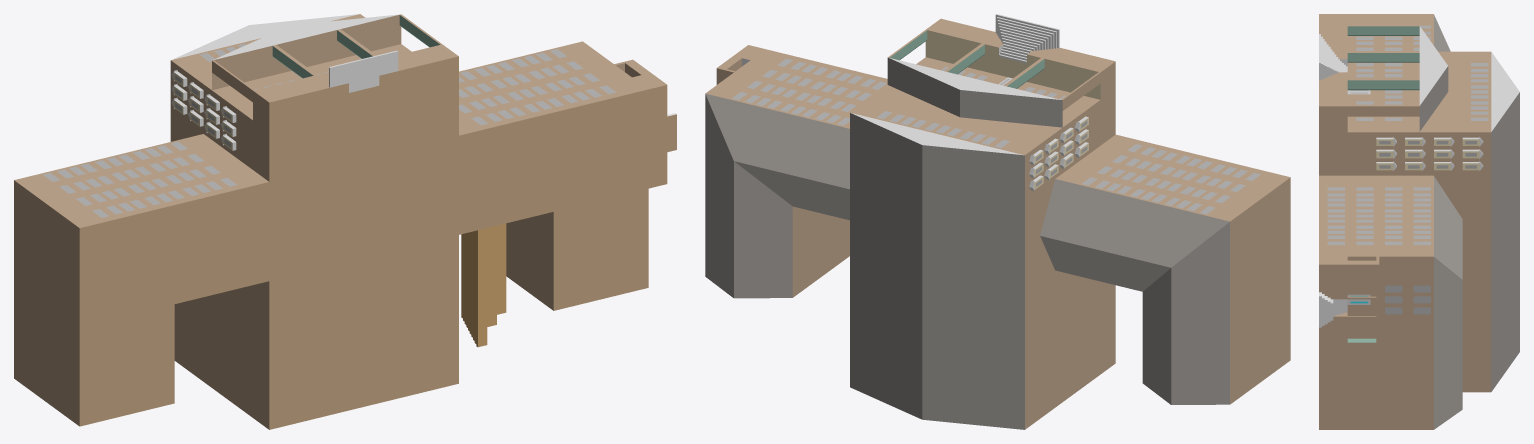
The model's file is Bad_Main_Recreation_Inverted.fbx.
The picture shows the model from 3 angles, left to right: view 1: azimuth 30°, elevation 25°; view 2: azimuth 150°, elevation 25°; view 3: azimuth 270°, elevation 25°; orthographic projection. The views are drawn at different scales.
Visible parts, largest first — view 1: imagetostl_mesh97, imagetostl_mesh318, imagetostl_mesh611, imagetostl_mesh376, imagetostl_mesh672, imagetostl_mesh359, imagetostl_mesh263, imagetostl_mesh845, imagetostl_mesh722, imagetostl_mesh375, imagetostl_mesh358, imagetostl_mesh671 (+22 smaller); view 2: imagetostl_mesh389, imagetostl_mesh390, imagetostl_mesh337, imagetostl_mesh333, imagetostl_mesh320, imagetostl_mesh326, imagetostl_mesh328, imagetostl_mesh104, imagetostl_mesh784, imagetostl_mesh332, imagetostl_mesh338, imagetostl_mesh672 (+32 smaller); view 3: imagetostl_mesh390, imagetostl_mesh179, imagetostl_mesh367, imagetostl_mesh386, imagetostl_mesh328, imagetostl_mesh267, imagetostl_mesh436, imagetostl_mesh263, imagetostl_mesh718, imagetostl_mesh320, imagetostl_mesh266, imagetostl_mesh703 (+27 smaller).
Part boxes in pixels (bbox=[...]): imagetostl_mesh97: bbox=[79, 56, 676, 429]; imagetostl_mesh318: bbox=[212, 15, 401, 89]; imagetostl_mesh611: bbox=[63, 216, 79, 426]; imagetostl_mesh376: bbox=[30, 192, 46, 402]; imagetostl_mesh672: bbox=[47, 204, 63, 414]; imagetostl_mesh359: bbox=[14, 180, 30, 389]; imagetostl_mesh263: bbox=[459, 59, 666, 135]; imagetostl_mesh845: bbox=[478, 223, 506, 329]; imagetostl_mesh722: bbox=[63, 170, 268, 227]; imagetostl_mesh375: bbox=[31, 146, 235, 203]; imagetostl_mesh358: bbox=[14, 134, 219, 191]; imagetostl_mesh671: bbox=[47, 158, 252, 215]; imagetostl_mesh389: bbox=[922, 145, 1024, 429]; imagetostl_mesh390: bbox=[850, 113, 922, 419]; imagetostl_mesh337: bbox=[1171, 222, 1229, 404]; imagetostl_mesh333: bbox=[1040, 179, 1229, 267]; imagetostl_mesh320: bbox=[705, 93, 849, 189]; imagetostl_mesh326: bbox=[734, 161, 792, 298]; imagetostl_mesh328: bbox=[705, 94, 733, 297]; imagetostl_mesh104: bbox=[1025, 144, 1039, 429]; imagetostl_mesh784: bbox=[925, 30, 1100, 99]; imagetostl_mesh332: bbox=[1040, 236, 1170, 291]; imagetostl_mesh338: bbox=[1142, 268, 1171, 404]; imagetostl_mesh672: bbox=[1260, 188, 1275, 382]; imagetostl_mesh390: bbox=[1491, 92, 1519, 391]; imagetostl_mesh179: bbox=[1462, 132, 1491, 392]; imagetostl_mesh367: bbox=[1405, 256, 1433, 429]; imagetostl_mesh386: bbox=[1376, 256, 1404, 429]; imagetostl_mesh328: bbox=[1434, 257, 1462, 429]; imagetostl_mesh267: bbox=[1347, 256, 1376, 429]; imagetostl_mesh436: bbox=[1319, 106, 1419, 175]; imagetostl_mesh263: bbox=[1319, 175, 1379, 264]; imagetostl_mesh718: bbox=[1319, 351, 1347, 429]; imagetostl_mesh320: bbox=[1434, 176, 1462, 279]; imagetostl_mesh266: bbox=[1347, 175, 1376, 256]; imagetostl_mesh703: bbox=[1462, 51, 1491, 132].
Bounding box in the file's own units: 378000 × 210000 × 126000.
